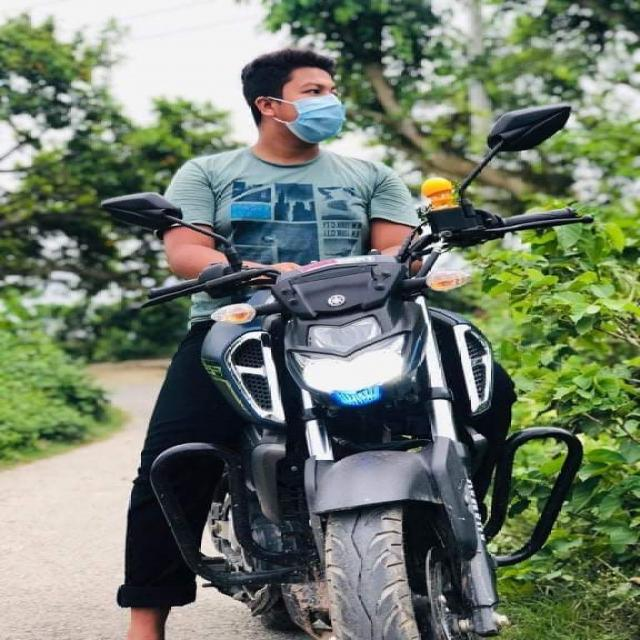Not Wearing Helmet: (184, 28, 380, 194)
